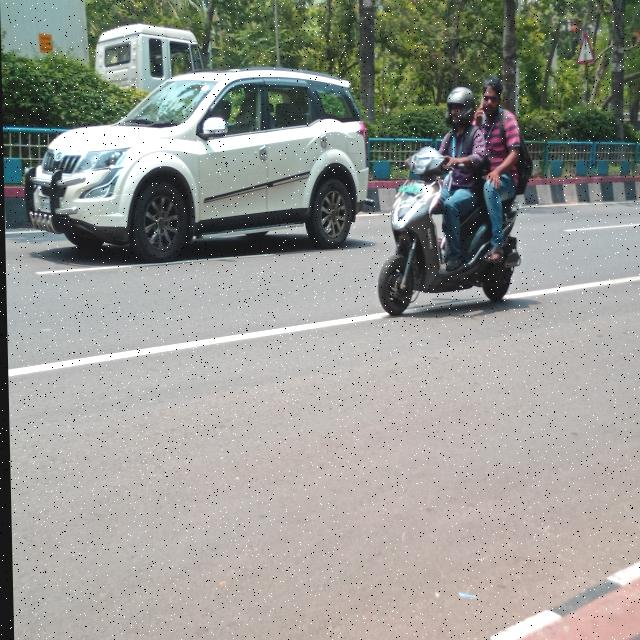bike: (370, 138, 517, 307)
car: (14, 58, 379, 264)
